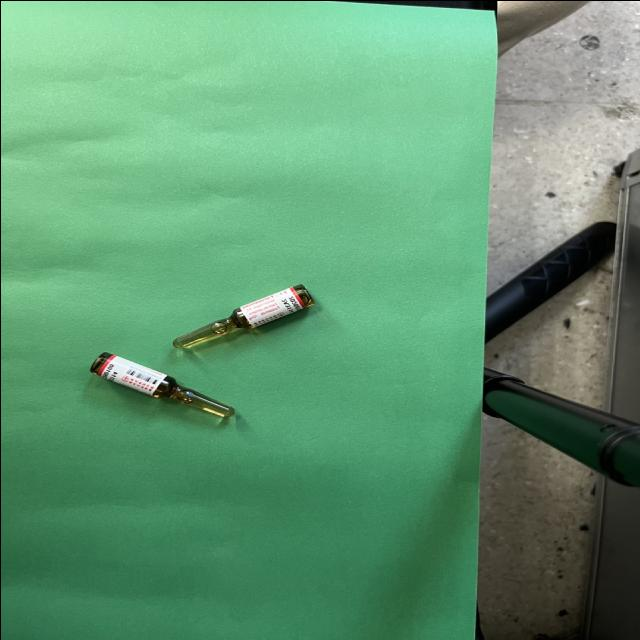Ampoules: (88, 352, 234, 418), (171, 284, 313, 348)
